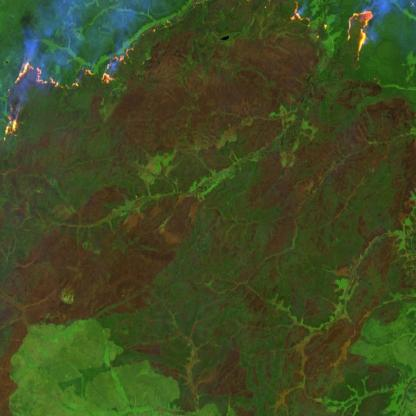fire: (0, 39, 138, 146), (288, 0, 376, 68)
